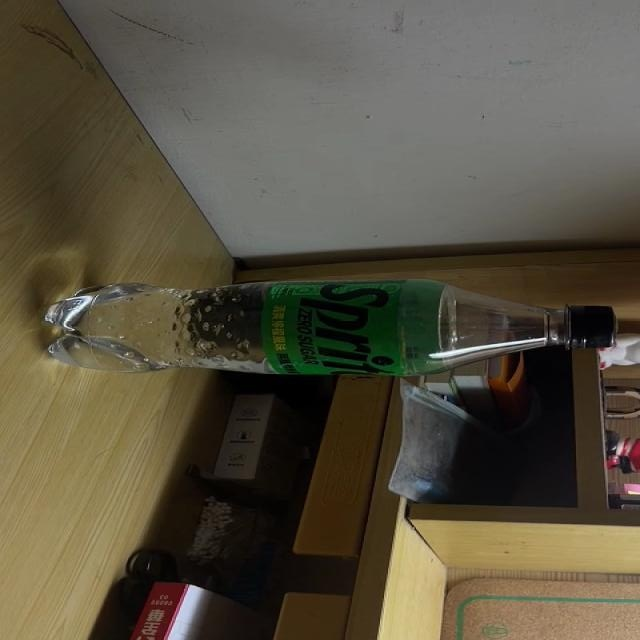Sprite: (40, 276, 618, 378)
